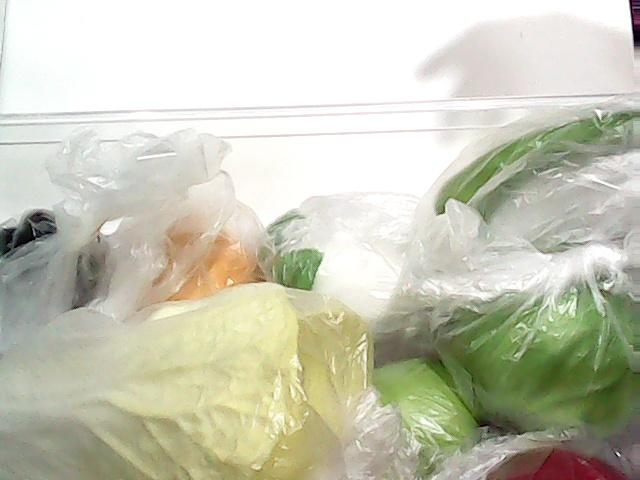apple: (365, 359, 479, 453), (484, 438, 634, 480)
cabbage: (412, 255, 640, 448)
grape: (1, 203, 72, 285)
lemon: (115, 192, 269, 312)
napa cabbage: (0, 284, 360, 480)
pepper: (412, 83, 640, 242)
radish: (258, 198, 437, 342)
